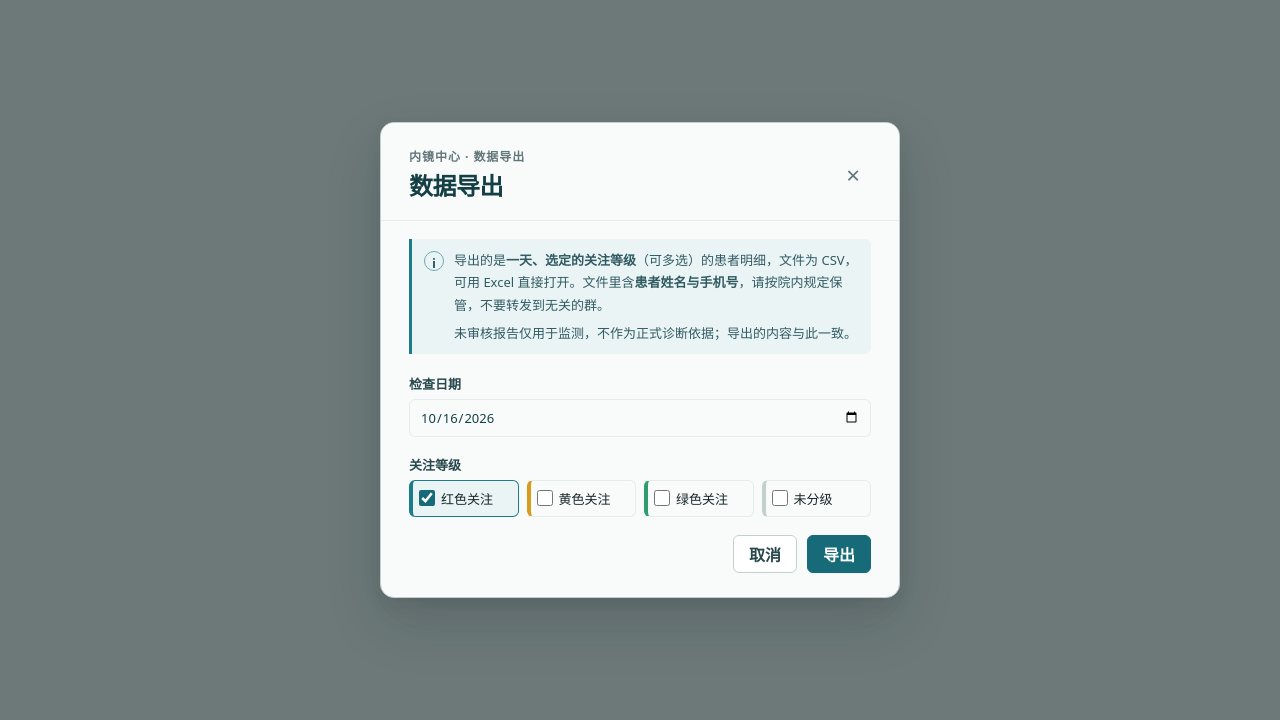
Test case: ExportModal (issue #139) › disables 导出 with a visible reason when nothing is ticked
Click the checkbox labelled "红色关注". click: (427, 498)
box: [419, 490, 435, 506]
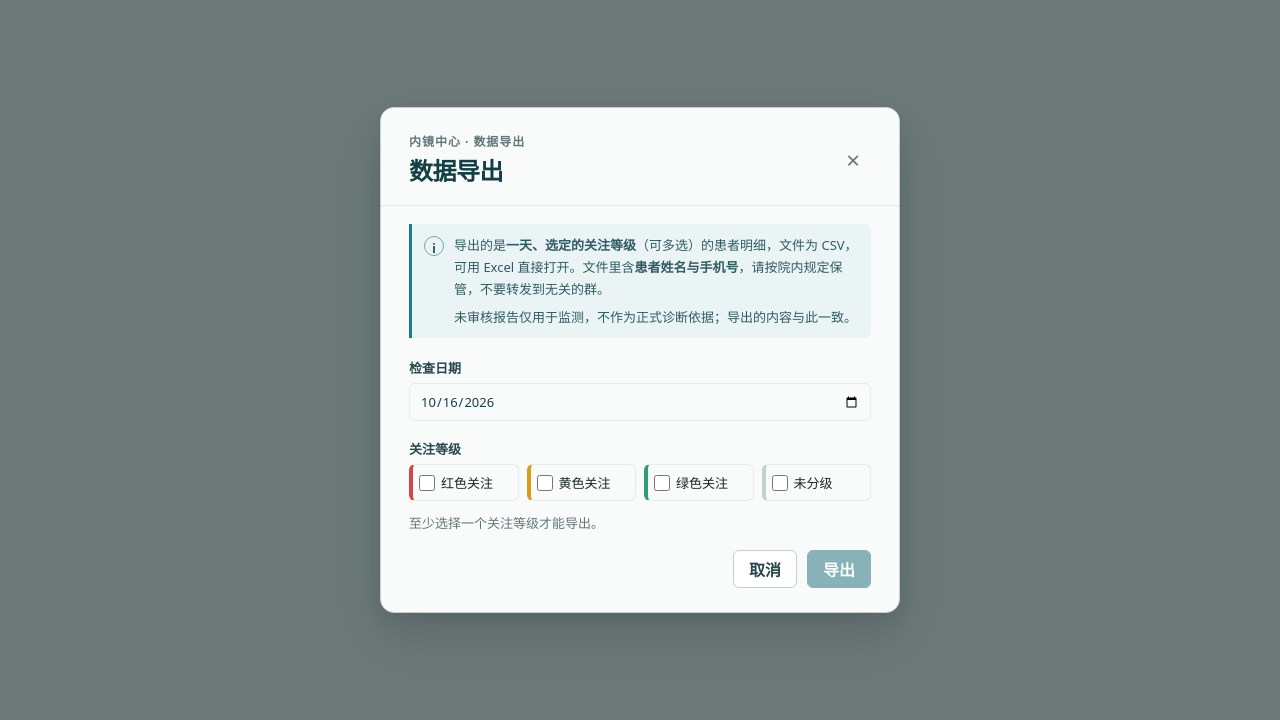
Expected: the button "导出" is disabled, [807, 550, 871, 588]
Expected: the message reads "至少选择一个关注等级才能导出。", [409, 514, 604, 532]
再勾回来就必须能点 —— 禁用是状态的函数，不是一个粘住的标志
Click the checkbox labelled "未分级". click: (780, 483)
box: [772, 475, 788, 491]
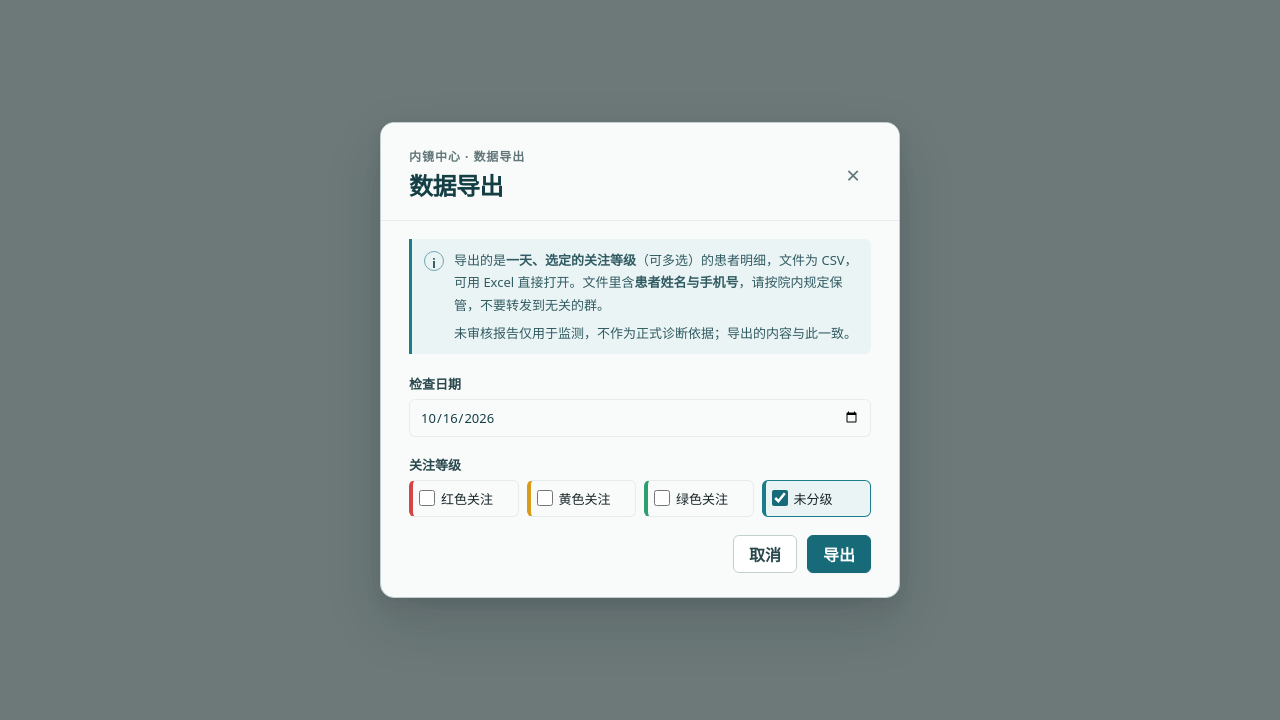
Expected: the button "导出" is enabled, [807, 535, 871, 573]
Expected: the text "至少选择一个关注等级才能导出。" is gone
